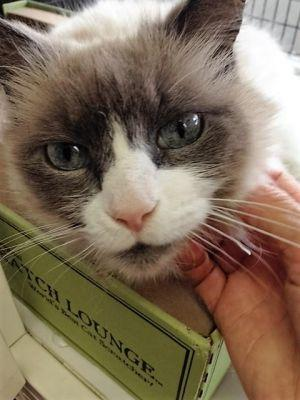ragdoll: (1, 1, 261, 287)
